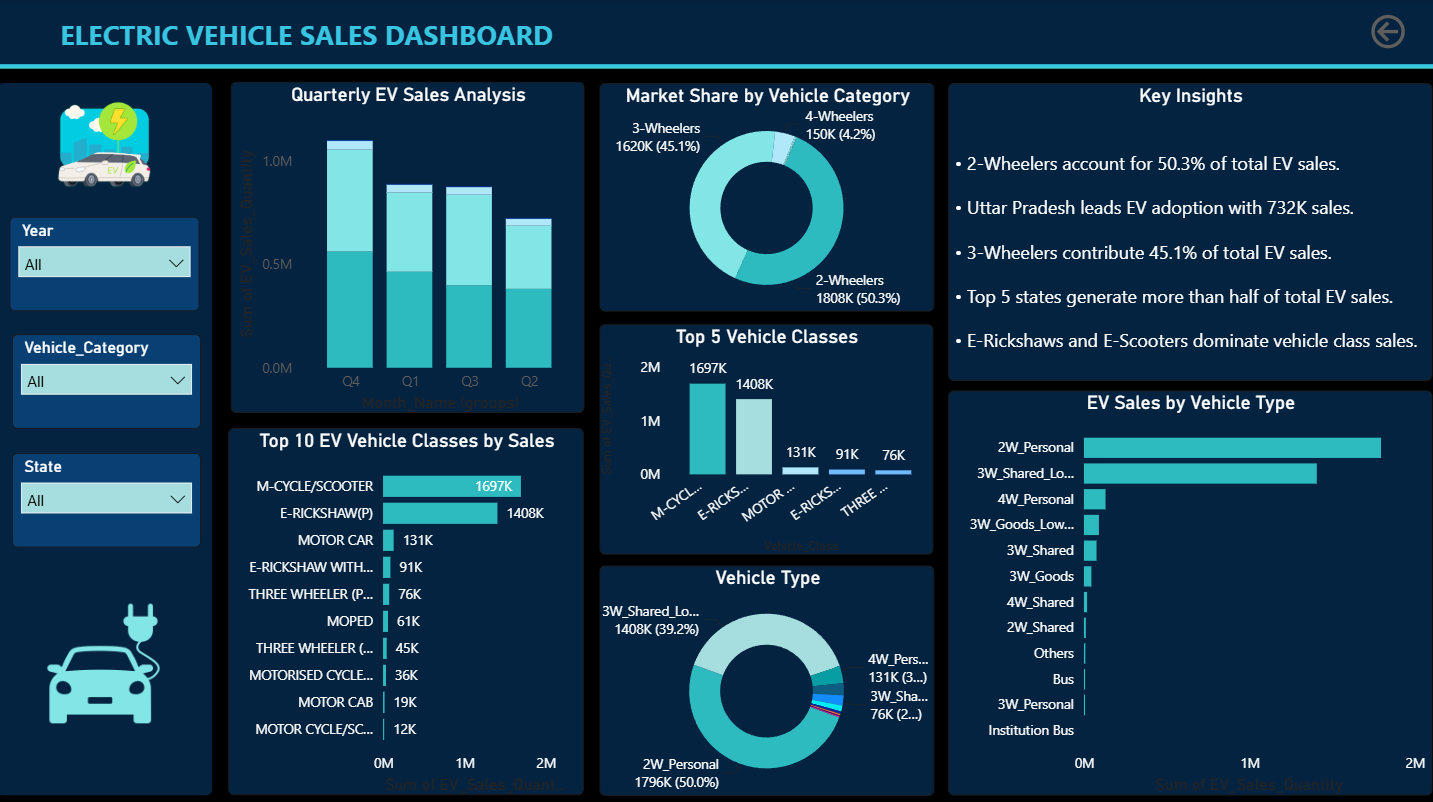

What the dashboard file says about the page in this screenshot:
{"tool":"powerbi","page":{"name":"Vehicle Segment Performance Analysis","canvas":[1280,720],"ordinal":1},"visuals":[{"type":"shape","box":[0,48,1919.7,26.1],"z":0},{"type":"textbox","box":[50.8,11,728.6,50.8],"z":1000},{"type":"donutChart","title":"Market Share by Vehicle Category","fields":{"Y":["Sum(electric_cleaned.EV_Sales_Quantity)"],"Category":["electric_cleaned.Vehicle_Category"]},"box":[535.6,75.6,297.8,203.3],"z":2000},{"type":"shape","box":[0,0,1280.3,61.7],"z":3000},{"type":"shape","box":[0,75.6,191.1,633.3],"z":4000},{"type":"columnChart","title":"Quarterly EV Sales Analysis","fields":{"Category":["electric_cleaned.Month_Name (groups)"],"Y":["Sum(electric_cleaned.EV_Sales_Quantity)"],"Series":["electric_cleaned.Vehicle_Category"]},"box":[207.8,74.4,314.4,294.4],"z":5000},{"type":"clusteredBarChart","title":"EV Sales by Vehicle Type","fields":{"Y":["Sum(electric_cleaned.EV_Sales_Quantity)"],"Category":["electric_cleaned.Vehicle_Type"]},"box":[845.6,348.9,430,360],"z":6000},{"type":"slicer","title":"Quantity Sold","fields":{"Values":["electric_cleaned.Year"]},"box":[11.4,194.3,168.6,84.3],"z":7000},{"type":"slicer","title":"Quantity Sold","fields":{"Values":["electric_cleaned.Vehicle_Category"]},"box":[13.2,298.5,167.6,83.8],"z":8000},{"type":"slicer","title":"Quantity Sold","fields":{"Values":["electric_cleaned.State"]},"box":[13.2,404.4,167.6,83.8],"z":9000},{"type":"columnChart","title":"Top 5 Vehicle Classes","fields":{"Category":["electric_cleaned.Vehicle_Class"],"Y":["Sum(electric_cleaned.EV_Sales_Quantity)"]},"box":[535.6,290,297,204.4],"z":10000},{"type":"donutChart","title":"Vehicle Type","fields":{"Y":["Sum(electric_cleaned.EV_Sales_Quantity)"],"Category":["electric_cleaned.Vehicle_Type"]},"box":[535.6,504.4,297.8,204.4],"z":11000},{"type":"clusteredBarChart","title":"Top 10 EV Vehicle Classes by Sales","fields":{"Y":["Sum(electric_cleaned.EV_Sales_Quantity)"],"Category":["electric_cleaned.Vehicle_Class"]},"box":[205.9,382.4,316.2,326.5],"z":12000},{"type":"actionButton","box":[1216.2,10.3,45.6,39.7],"z":13000},{"type":"image","box":[48.5,83.8,92.6,94.1],"z":14000},{"type":"image","box":[36.8,525,116.2,132.4],"z":15000},{"type":"textbox","title":"Key Insights","box":[845.6,75.6,430,264.4],"z":16000}]}

Visuals, with their boxes in screenshot pixels (x1, y1, x2, y2), scaled from the page's 1280x720 canvas onto the 1433x802 screenshot:
shape: x1=0, y1=53, x2=1432, y2=83
textbox: x1=57, y1=12, x2=873, y2=69
"Market Share by Vehicle Category" donutChart: x1=600, y1=84, x2=933, y2=311
shape: x1=0, y1=0, x2=1432, y2=69
shape: x1=0, y1=84, x2=214, y2=790
"Quarterly EV Sales Analysis" columnChart: x1=233, y1=83, x2=585, y2=411
"EV Sales by Vehicle Type" clusteredBarChart: x1=947, y1=389, x2=1428, y2=790
"Quantity Sold" slicer: x1=13, y1=216, x2=202, y2=310
"Quantity Sold" slicer: x1=15, y1=332, x2=202, y2=426
"Quantity Sold" slicer: x1=15, y1=450, x2=202, y2=544
"Top 5 Vehicle Classes" columnChart: x1=600, y1=323, x2=932, y2=551
"Vehicle Type" donutChart: x1=600, y1=562, x2=933, y2=790
"Top 10 EV Vehicle Classes by Sales" clusteredBarChart: x1=231, y1=426, x2=585, y2=790
actionButton: x1=1362, y1=11, x2=1413, y2=56
image: x1=54, y1=93, x2=158, y2=198
image: x1=41, y1=585, x2=171, y2=732
"Key Insights" textbox: x1=947, y1=84, x2=1428, y2=379
